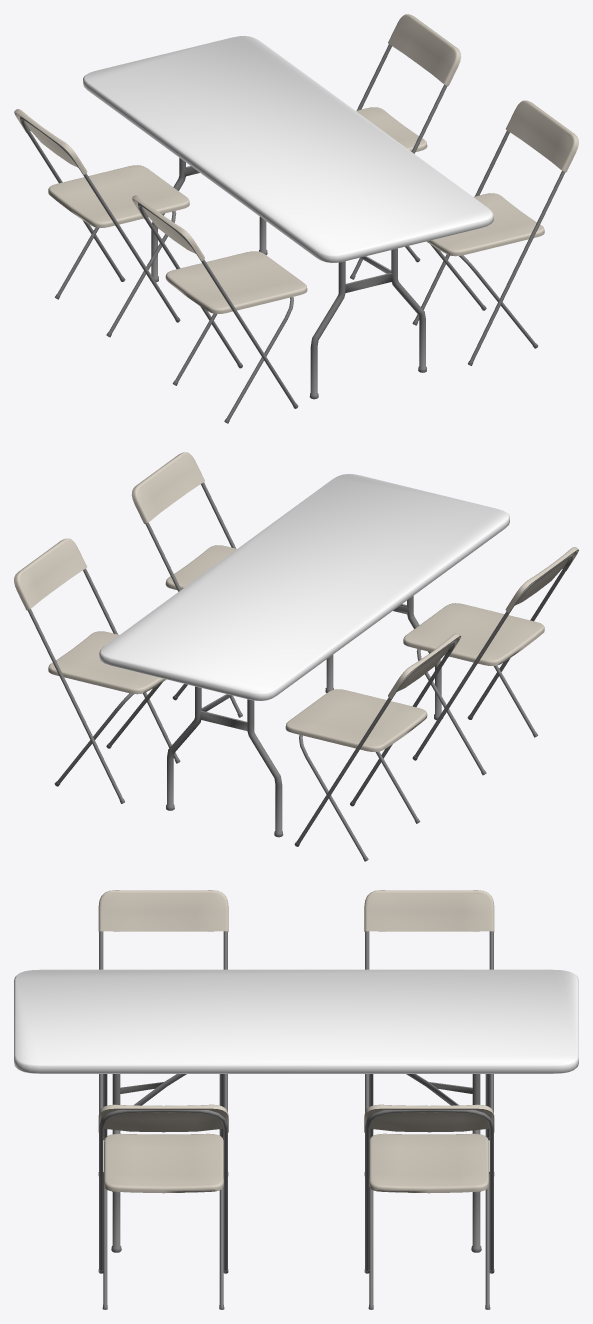
The model's file is TableAndFourChairs.glb.
The picture shows the model from 3 angles, top to bottom: view 1: azimuth 30°, elevation 25°; view 2: azimuth 150°, elevation 25°; view 3: azimuth 270°, elevation 25°; orthographic projection. The views are drawn at different scales.
Parts seen in each view (by area): view 1: Table.005, Table.004, Table.042, Table.041; view 2: Table.005, Table.004, Table.042, Table.041; view 3: Table.005, Table.004, Table.042, Table.041.
Boxes of the visible parts, x1,y1,x2,y2 form: Table.005: (83,36,493,262); Table.004: (14,14,461,423); Table.042: (412,100,578,365); Table.041: (150,158,426,399); Table.005: (99,474,509,700); Table.004: (14,538,578,861); Table.042: (131,452,242,717); Table.041: (166,596,442,837); Table.005: (14,969,578,1073); Table.004: (98,890,494,1309); Table.042: (98,1104,228,1309); Table.041: (111,1074,481,1252).
Size of the model in its own units: 2.1 by 1.02 by 2.29.
